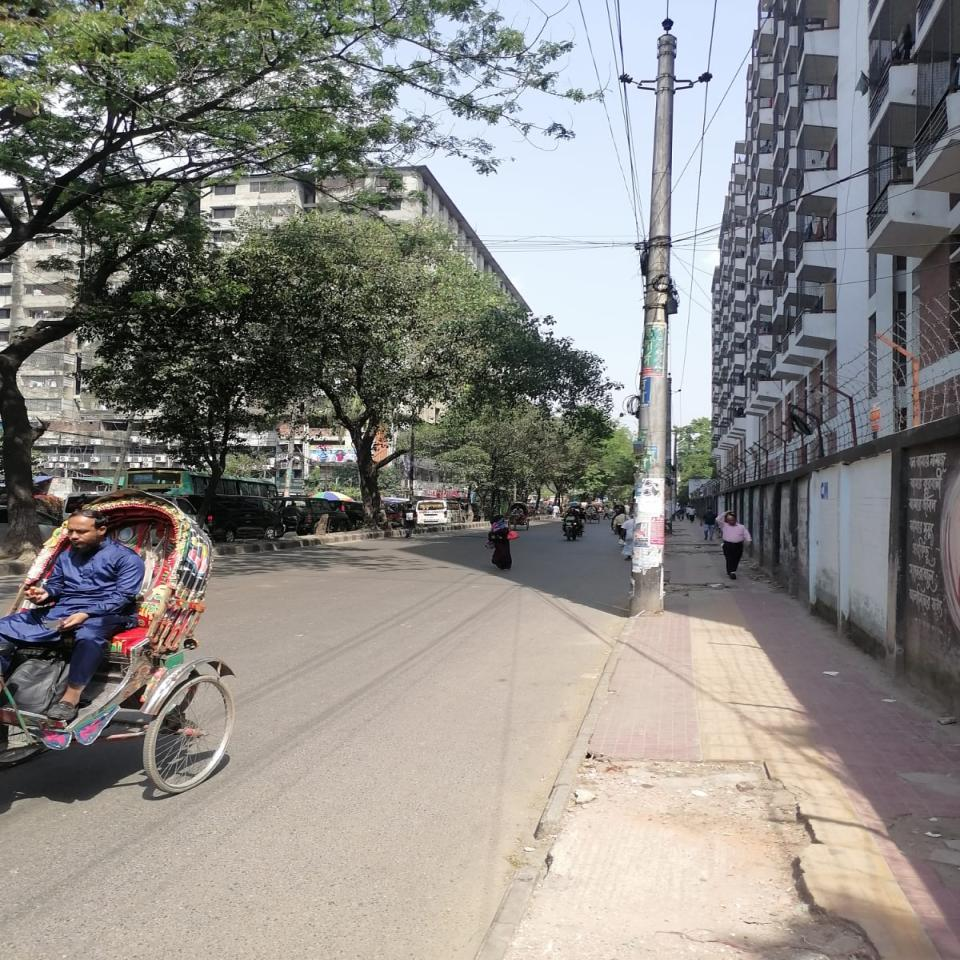person: (488, 515, 518, 571)
